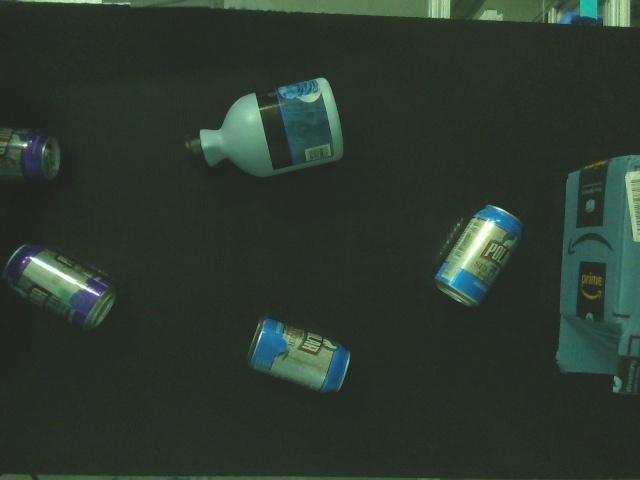cardboard: (547, 148, 640, 404)
metal: (428, 196, 532, 312), (0, 238, 122, 336), (241, 310, 358, 396), (0, 126, 70, 191)
plastic: (182, 68, 350, 188)
